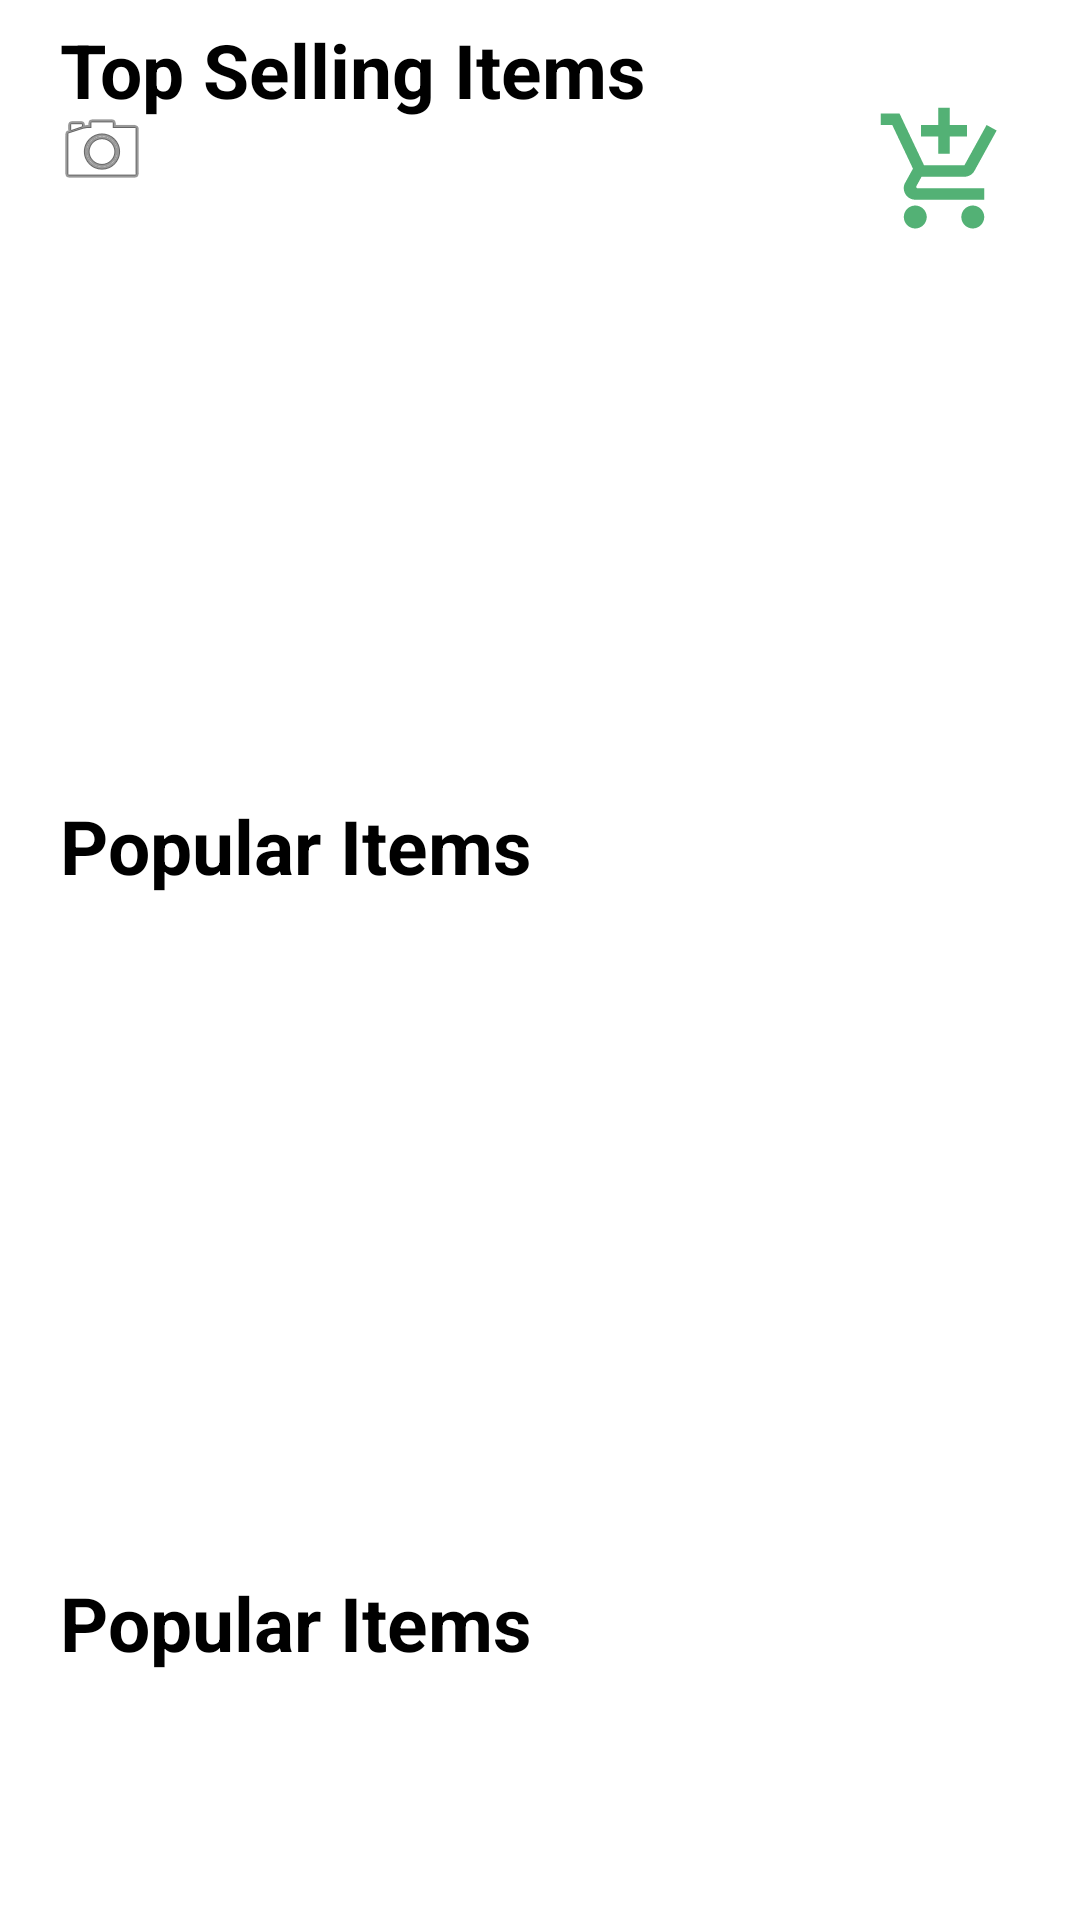

Icons on this 1080px×1920px Android screen, each with its box as region(x1, y1, x2, y2):
add shopping cart: region(880, 107, 997, 229)
camera: region(65, 119, 139, 178)
